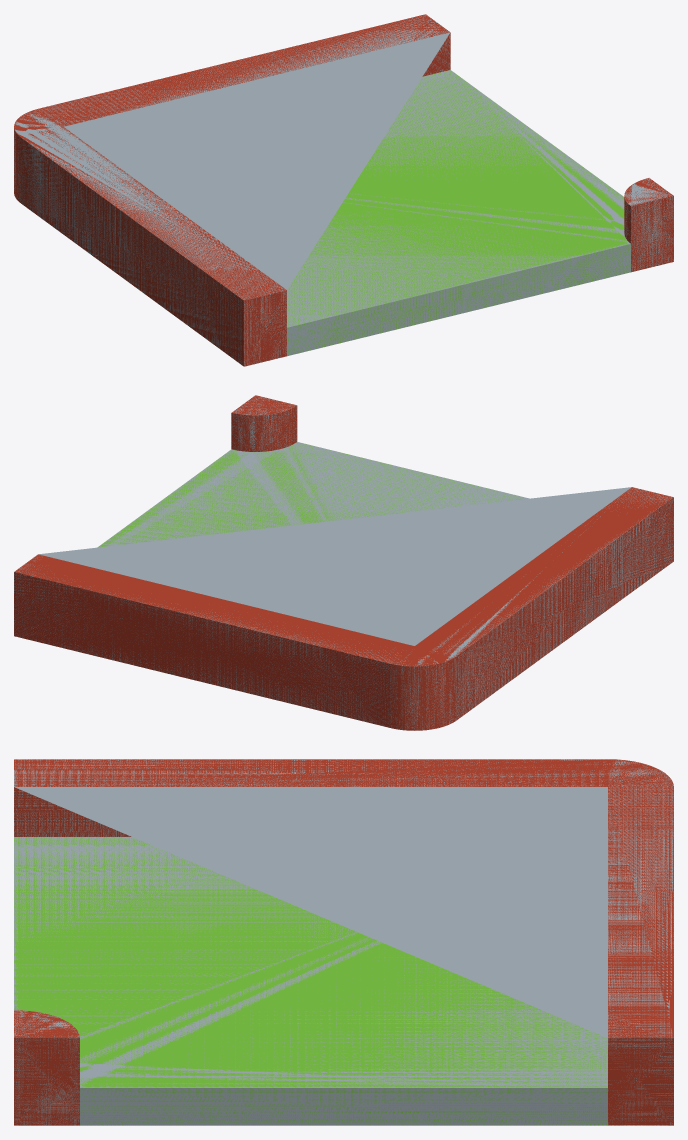
Rendered from Square_corner_1_01.obj.
The picture shows the model from 3 angles, top to bottom: view 1: azimuth 30°, elevation 25°; view 2: azimuth 150°, elevation 25°; view 3: azimuth 270°, elevation 25°; orthographic projection. The views are drawn at different scales.
Visible parts, largest first — view 1: BackColor, Green, Red; view 2: BackColor, Red, Mesh1 Square_corner_1 Model, Green; view 3: BackColor, Green, Red.
Part boxes in pixels (x1,y1,x2,y2): BackColor: (14,14,673,366); Green: (287,70,630,355); Red: (14,14,673,366); BackColor: (14,395,673,730); Red: (14,395,673,730); Mesh1 Square_corner_1 Model: (14,572,390,727); Green: (98,443,523,547); BackColor: (14,759,673,1125); Green: (14,837,607,1125); Red: (14,759,673,1125).
Size of the model in its own units: 3 by 0.44 by 3.
